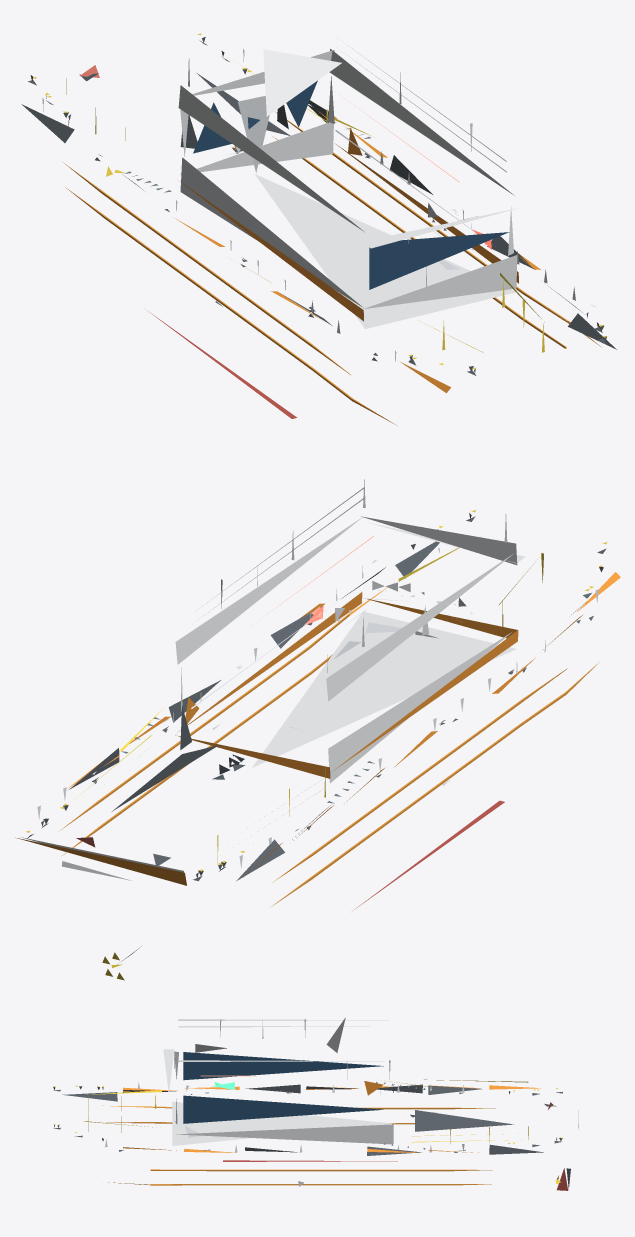
Rendered from ship_01.glb.
3 renders of one model, top to bottom at view 1: azimuth 30°, elevation 25°; view 2: azimuth 150°, elevation 25°; view 3: azimuth 270°, elevation 25°, orthographic. The views are drawn at different scales.
Visible parts, largest first — view 1: TrueHelm_Ship_01; view 2: TrueHelm_Ship_01; view 3: TrueHelm_Ship_01.
Boxes of the visible parts, x1,y1,x2,y2 form: TrueHelm_Ship_01: (21,33,616,425); TrueHelm_Ship_01: (15,479,620,980); TrueHelm_Ship_01: (53,1017,578,1190).
Bounding box in the file's own units: 0.1233 × 0.1513 × 0.4742.
